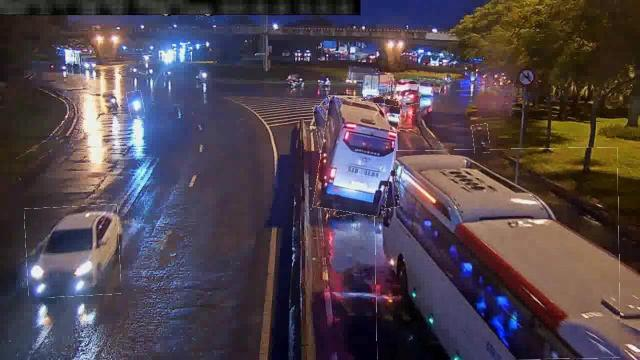Bike: (472, 124, 490, 154), (128, 91, 144, 119), (102, 90, 120, 114)
Bus: (374, 148, 620, 360), (318, 99, 397, 215)
Car: (26, 206, 120, 296), (372, 98, 402, 124), (397, 86, 419, 106), (393, 78, 419, 94), (416, 79, 440, 95)
Truck: (318, 99, 397, 215)
